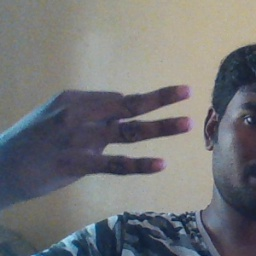K: (9, 84, 198, 189)
